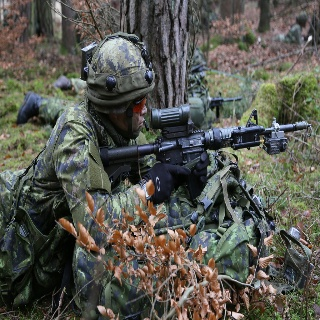rifle: (98, 104, 310, 197)
